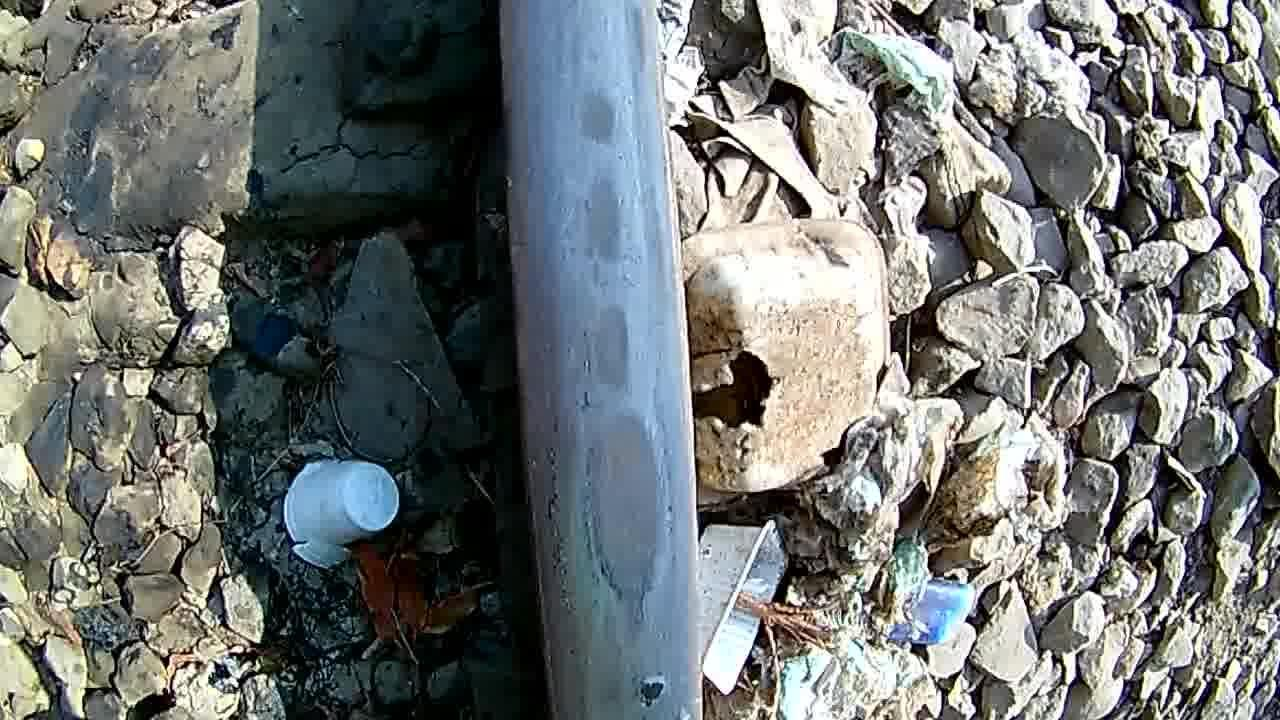crack: (518, 14, 692, 720)
